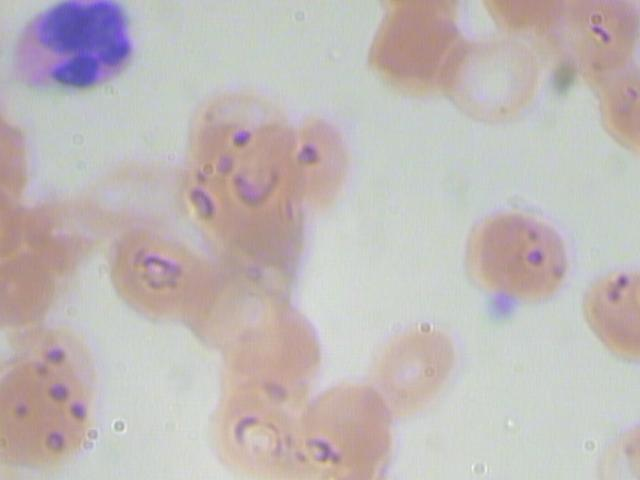RBC: (452, 200, 587, 308), (1, 357, 107, 473), (357, 319, 465, 420), (295, 379, 403, 480), (108, 222, 216, 323), (197, 379, 305, 480), (440, 24, 548, 125), (362, 1, 470, 100), (226, 293, 331, 382), (575, 269, 640, 366), (290, 113, 355, 210)
